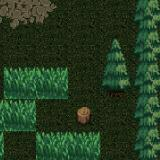Obstacle: (133, 0, 160, 160), (99, 67, 134, 99), (68, 99, 99, 132)
Slow: (4, 67, 68, 99), (36, 132, 101, 160), (0, 100, 36, 131)
